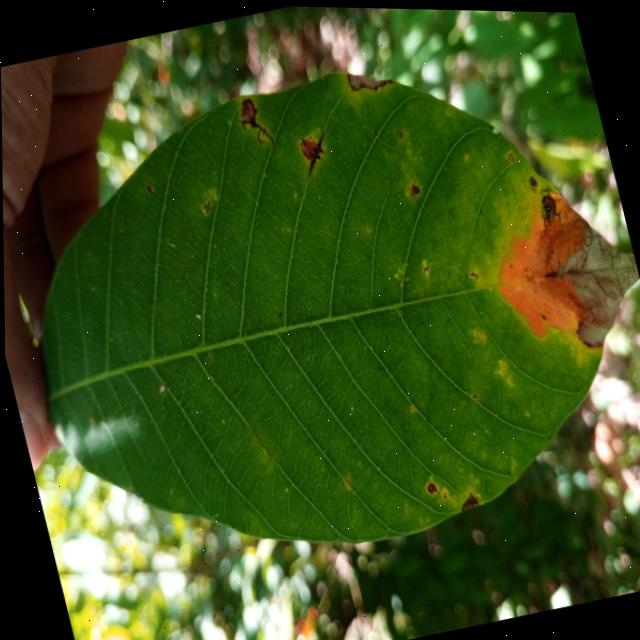Colletotrichum: (526, 171, 538, 185), (156, 381, 165, 392), (506, 149, 514, 158), (473, 270, 478, 276), (469, 268, 474, 273)
Corynespora: (233, 92, 276, 149), (297, 130, 334, 177), (237, 107, 275, 149), (532, 180, 562, 225)
Leaf-Blight: (545, 213, 640, 349), (346, 62, 389, 91)
